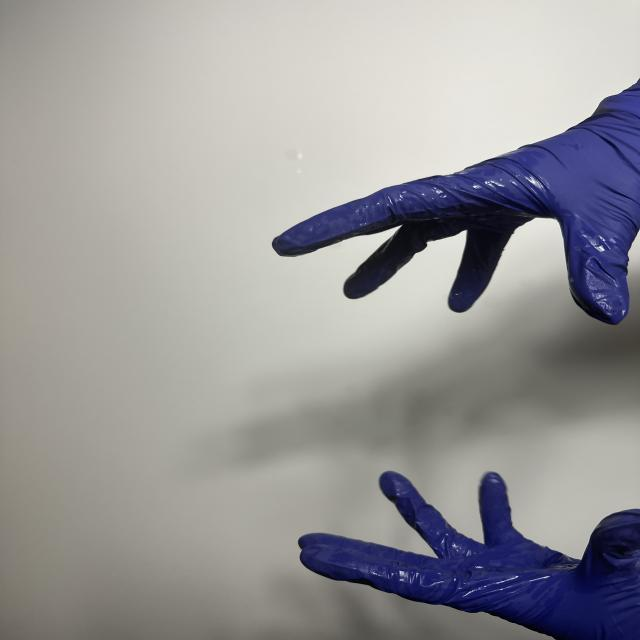gloves_contaminated: (273, 81, 640, 325), (299, 472, 640, 640)
